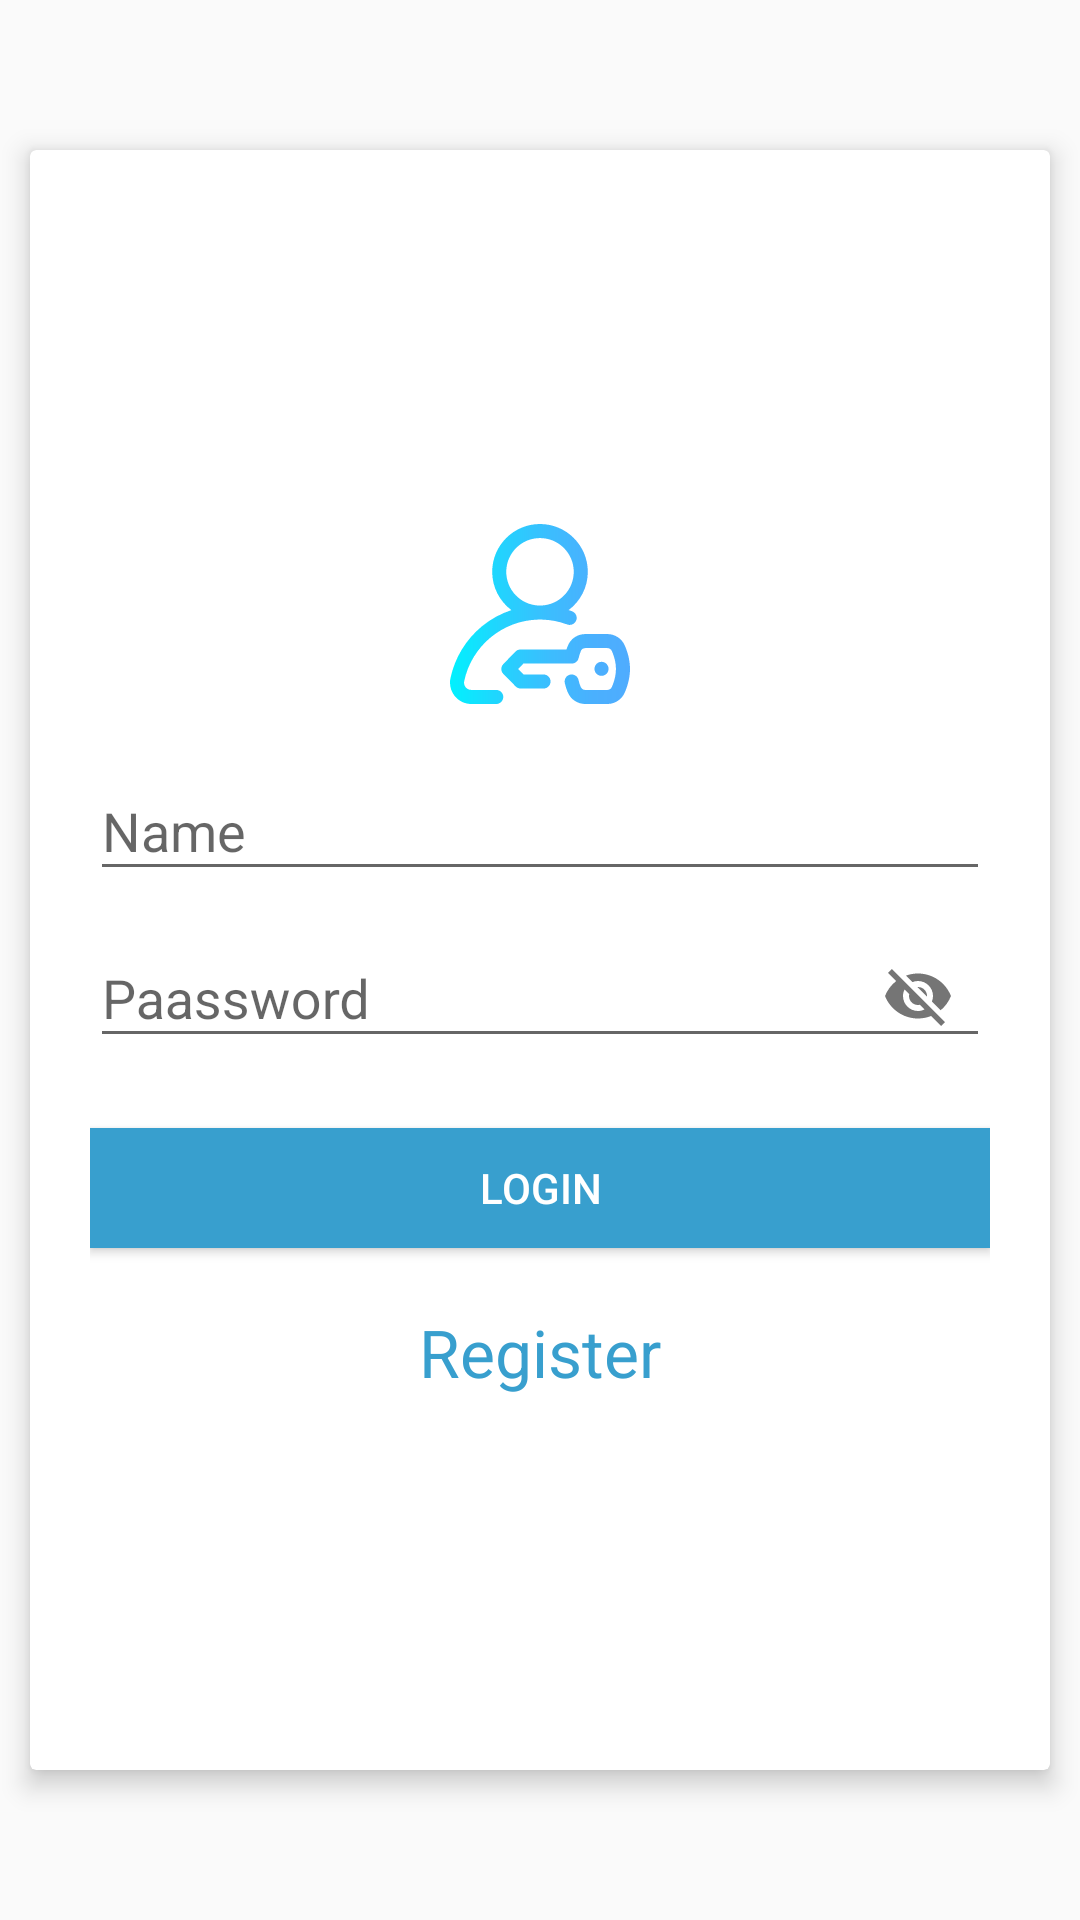

Icons on this 1080 × 1920 Android screen, each with its box as (x1, y1, x2, y2):
login: (450, 524, 630, 704)
